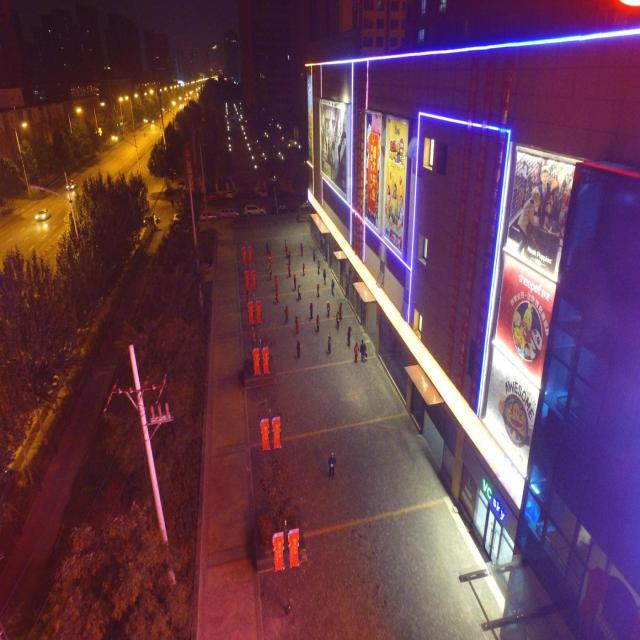car: (242, 203, 266, 216), (34, 208, 51, 221), (220, 208, 239, 219)
person: (328, 452, 336, 478), (296, 339, 300, 357)
tree: (28, 497, 192, 639)
